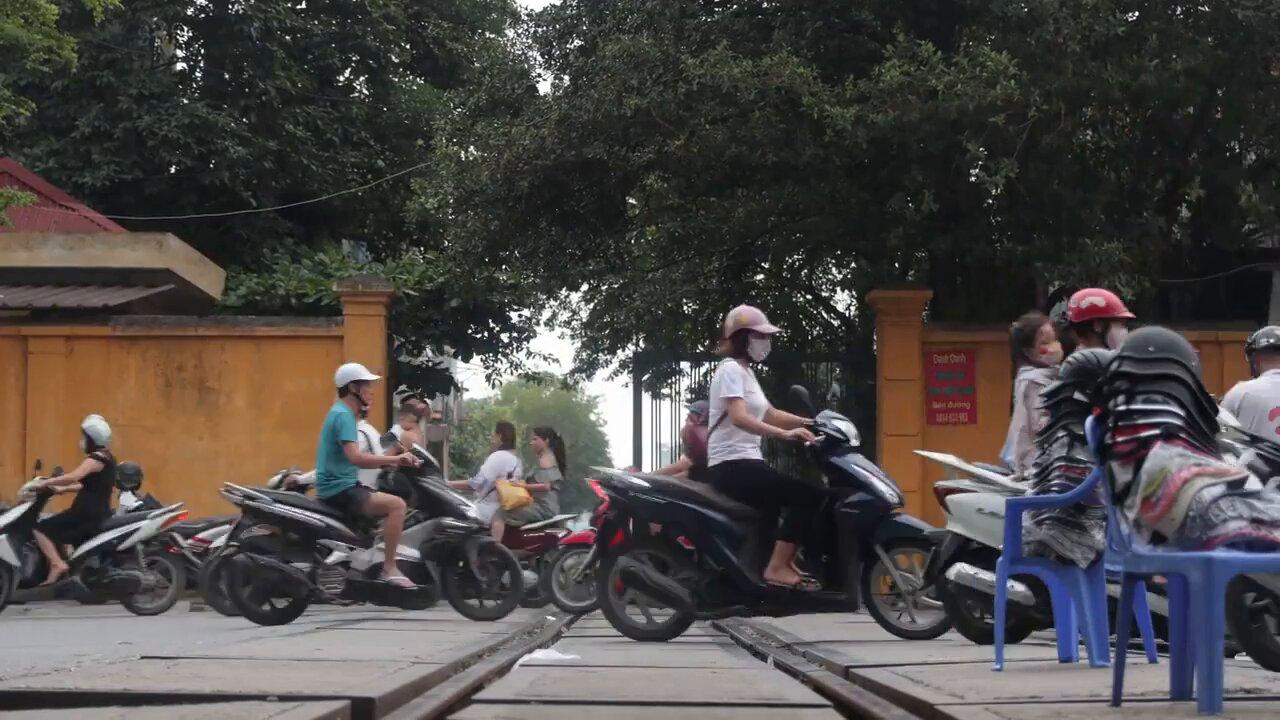driver: (573, 305, 955, 641), (217, 362, 524, 627), (0, 414, 190, 617)
helmet: (1066, 288, 1137, 351), (711, 305, 783, 363), (335, 362, 382, 408), (1244, 325, 1280, 379), (78, 414, 114, 454)
no-helmet: (1009, 311, 1064, 368), (530, 426, 564, 454), (491, 420, 517, 450)
